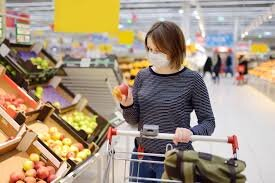with_basket: (104, 126, 244, 183)
with_mask: (145, 21, 184, 71)
